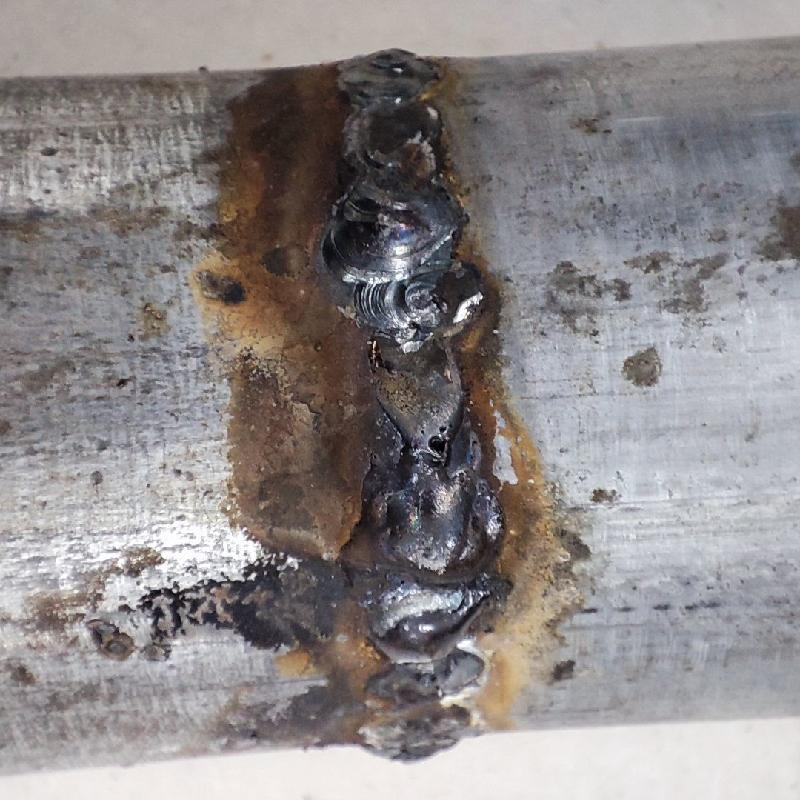Not_fully_soldered: (341, 281, 463, 467), (360, 671, 486, 763)
Surface_pores: (403, 416, 458, 457)
Weld: (347, 465, 503, 670)
wrong_size: (325, 49, 470, 281)
